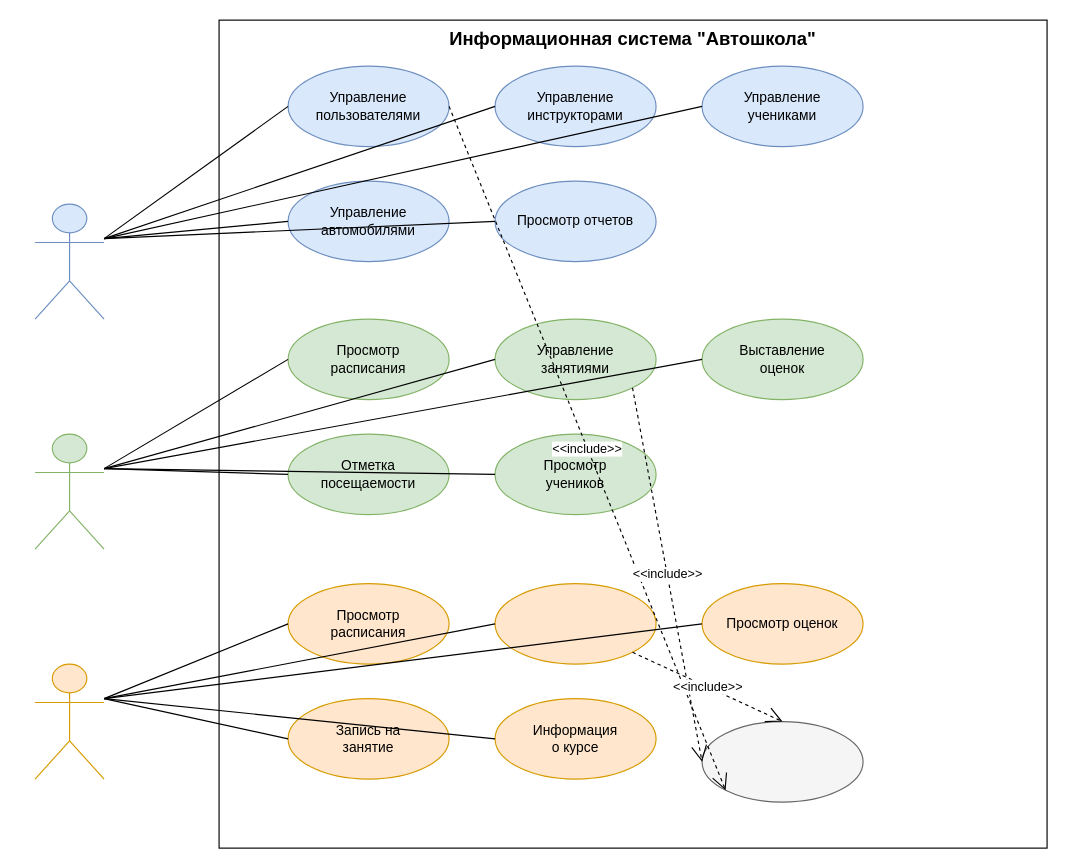
This 1067x868 diagram has some shape labels left out. Here are the shapes that lost their labels. From the top down, the centre of each, then its label:
the point at 69,261: Администратор
the point at 69,491: Инструктор
the point at 575,623: Просмотр прогресса
the point at 69,721: Ученик
the point at 782,761: Авторизация
